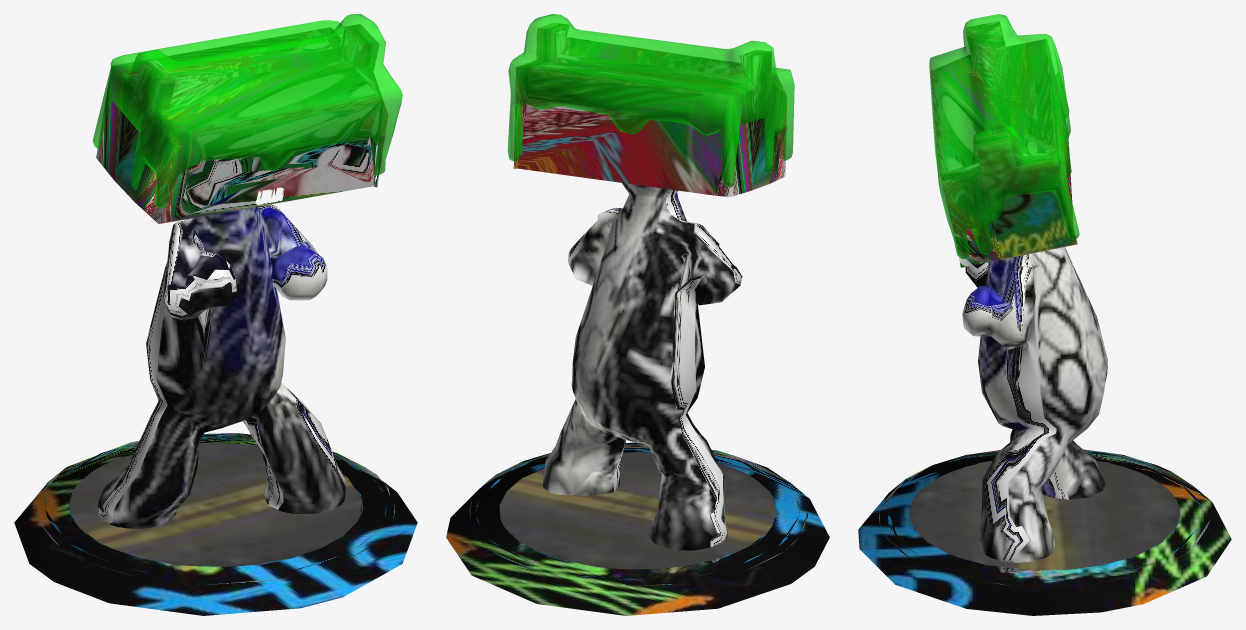
The picture shows the model from 3 angles, left to right: view 1: azimuth 30°, elevation 25°; view 2: azimuth 150°, elevation 25°; view 3: azimuth 270°, elevation 25°; orthographic projection. The views are drawn at different scales.
Size of the model in its own units: 1.44 by 2.05 by 1.44.
6 materials, 4 textured.
